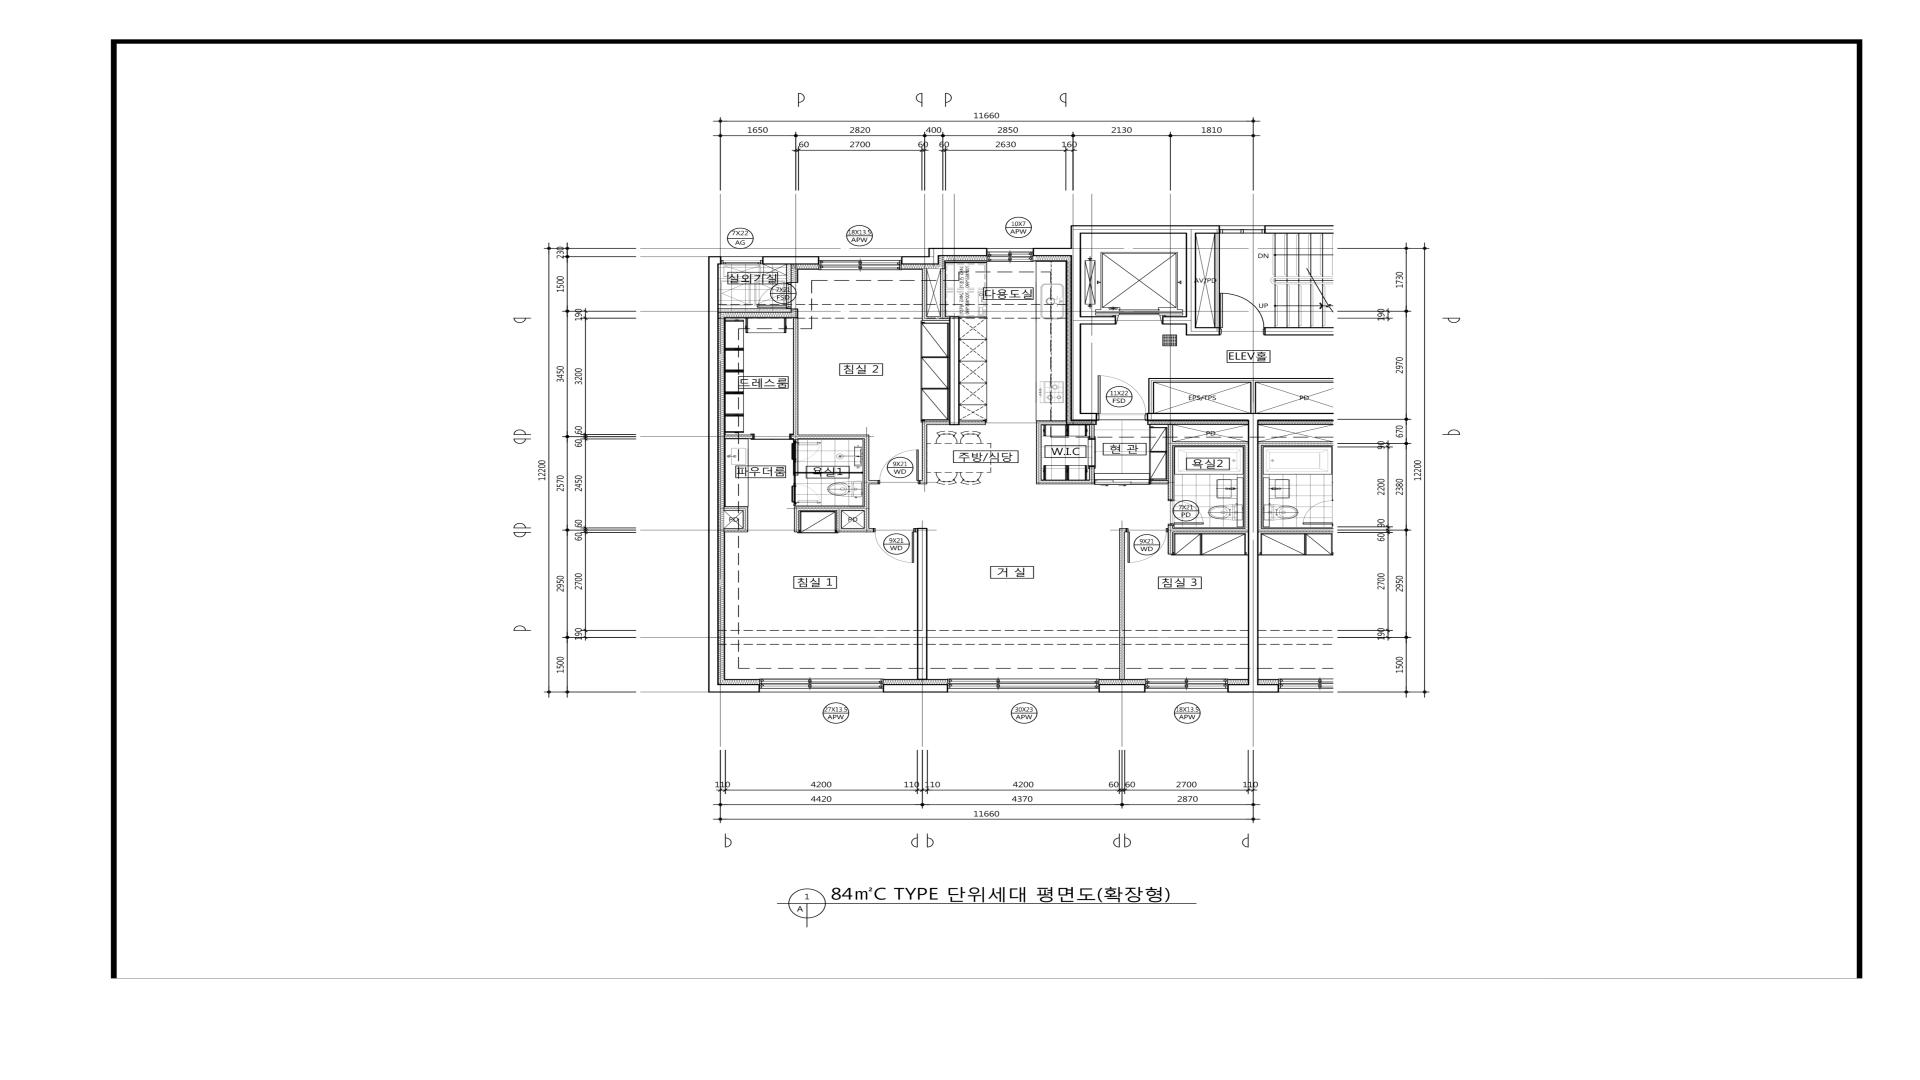door: (1097, 376, 1147, 421), (1220, 293, 1265, 336), (874, 527, 918, 563), (1126, 527, 1168, 563), (878, 450, 919, 484), (1168, 500, 1204, 526), (757, 284, 791, 309), (791, 439, 822, 460), (791, 485, 822, 506), (1095, 480, 1150, 485), (1088, 438, 1096, 467), (754, 434, 791, 439)
wall: (708, 256, 721, 692), (1247, 421, 1258, 692), (1071, 233, 1081, 421), (916, 527, 927, 679), (1147, 413, 1333, 421), (1185, 233, 1197, 335), (1071, 225, 1220, 233), (949, 316, 960, 425), (1120, 529, 1126, 679), (1149, 378, 1333, 382), (1265, 327, 1333, 336), (793, 318, 798, 435), (1265, 225, 1335, 233), (762, 256, 819, 265), (882, 684, 948, 692), (1215, 233, 1220, 327), (864, 439, 869, 529), (928, 248, 988, 256), (919, 425, 927, 484), (1168, 423, 1174, 500), (1172, 527, 1247, 533), (1098, 684, 1146, 692), (901, 256, 939, 265), (719, 684, 760, 692), (791, 435, 869, 439), (1036, 426, 1042, 484), (1033, 248, 1071, 256), (1174, 442, 1247, 446), (719, 309, 791, 313), (794, 506, 864, 510), (1081, 316, 1116, 324), (940, 269, 945, 316), (922, 269, 927, 316), (1245, 446, 1247, 527), (1250, 382, 1257, 413), (1162, 316, 1185, 324), (1196, 327, 1220, 335), (1042, 480, 1089, 484), (841, 527, 874, 533), (1228, 684, 1249, 692), (1149, 382, 1154, 413), (1036, 421, 1067, 426), (1168, 525, 1174, 554), (1081, 413, 1097, 421), (724, 435, 754, 439), (742, 510, 748, 533), (794, 510, 799, 533), (836, 510, 841, 533), (922, 316, 949, 320), (922, 421, 949, 425), (960, 421, 985, 425), (786, 265, 791, 284), (724, 506, 748, 510), (1089, 467, 1095, 484), (795, 472, 864, 473), (1150, 480, 1168, 484), (724, 529, 742, 533), (1089, 425, 1095, 438), (869, 480, 878, 484), (794, 460, 795, 485)
window: (948, 679, 1098, 692), (760, 679, 882, 692), (819, 256, 901, 270), (1146, 679, 1228, 692), (986, 248, 1033, 261), (721, 256, 762, 265), (1220, 225, 1265, 233)
